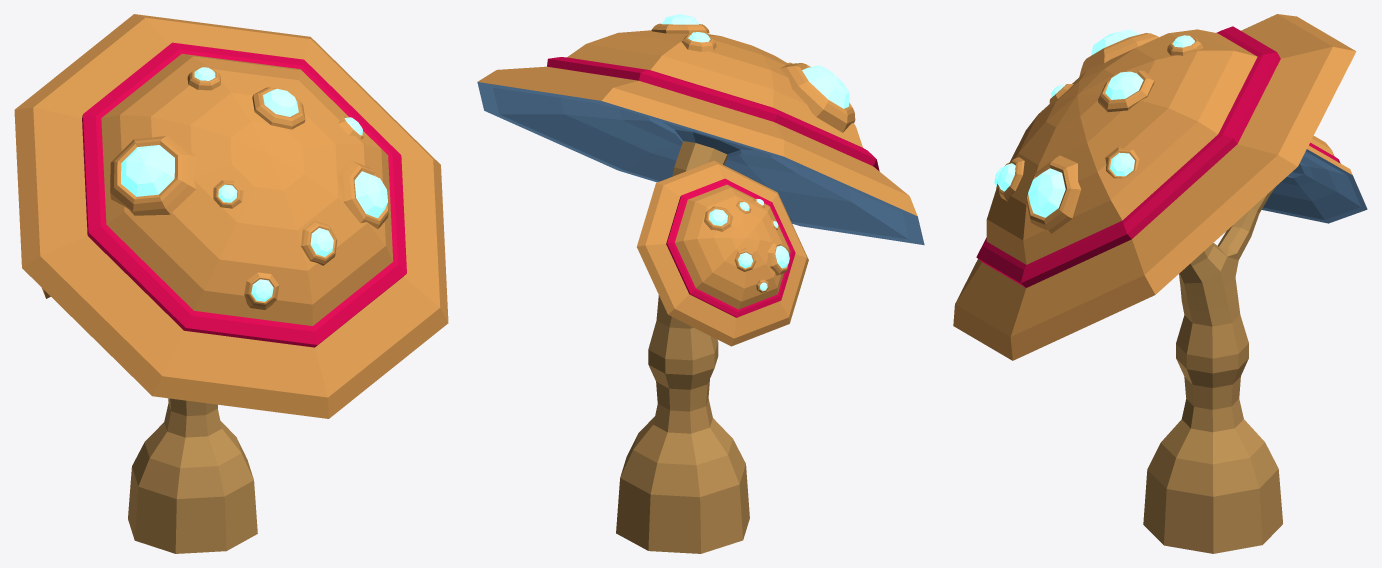
Rendered from Mushroom_03_Var_06.fbx.
3 views of the same model, side by side, from view 1: azimuth 30°, elevation 25°; view 2: azimuth 150°, elevation 25°; view 3: azimuth 270°, elevation 25° (orthographic). The views are drawn at different scales.
Parts seen in each view (by area): view 1: Mushroom_03_Var_06; view 2: Mushroom_03_Var_06; view 3: Mushroom_03_Var_06.
Part boxes in pixels (box(x1,y1,x2,y2)): Mushroom_03_Var_06: box(14, 14, 448, 553); Mushroom_03_Var_06: box(477, 14, 924, 553); Mushroom_03_Var_06: box(953, 14, 1367, 553).
Bounding box in the file's own units: 0.3154 × 0.4086 × 0.3836.
